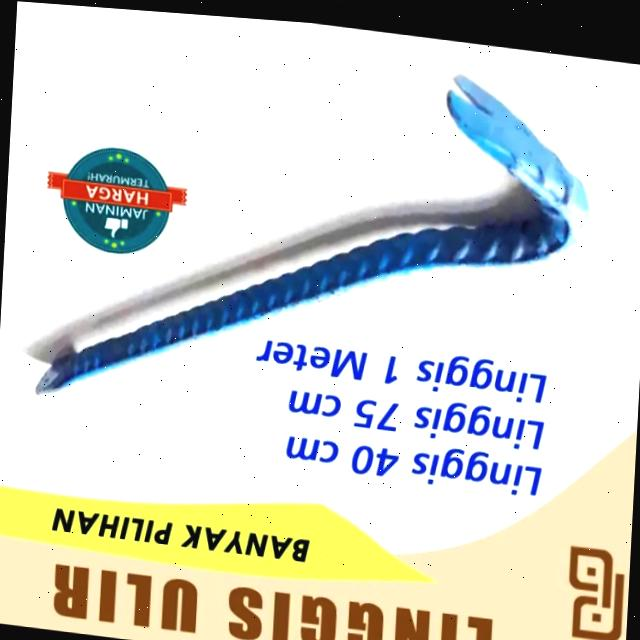crow bar: (29, 70, 587, 392)
